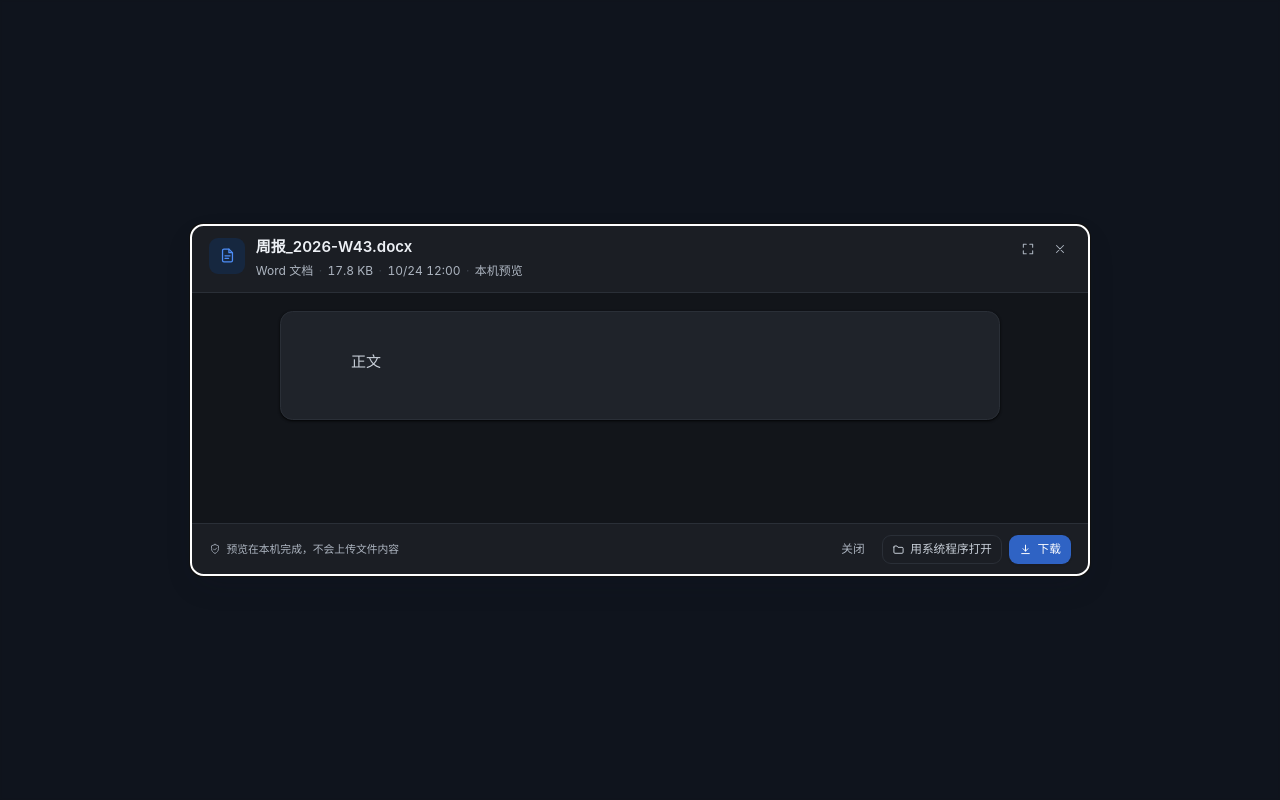
ArtifactPreviewModal 窗口尺寸 › 点展开切到全窗口，再点还原回半窗口
The image size is (1280, 800).
Expected: the text "正文" is shown, [351,352,381,371]
Step 1. Click the button named "全窗口查看" → (1028, 249), box [1013,234,1042,263]
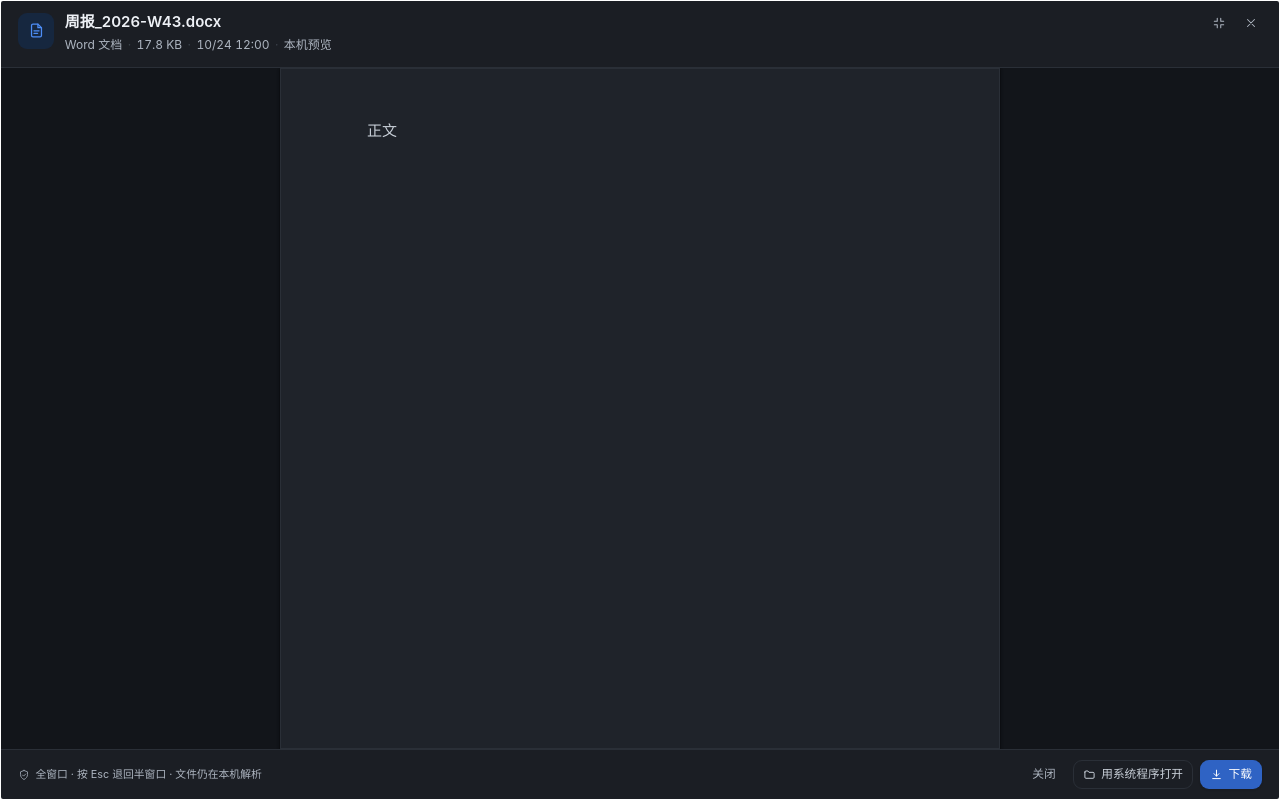
Now the dialog has attribute data-fullscreen="true"
Now the element with test id "preview-doc" has class "doc-paper--full", box [280,68,1000,749]
Step 2. Click the button named "还原半窗口" → (1219, 23), box [1204,9,1233,38]
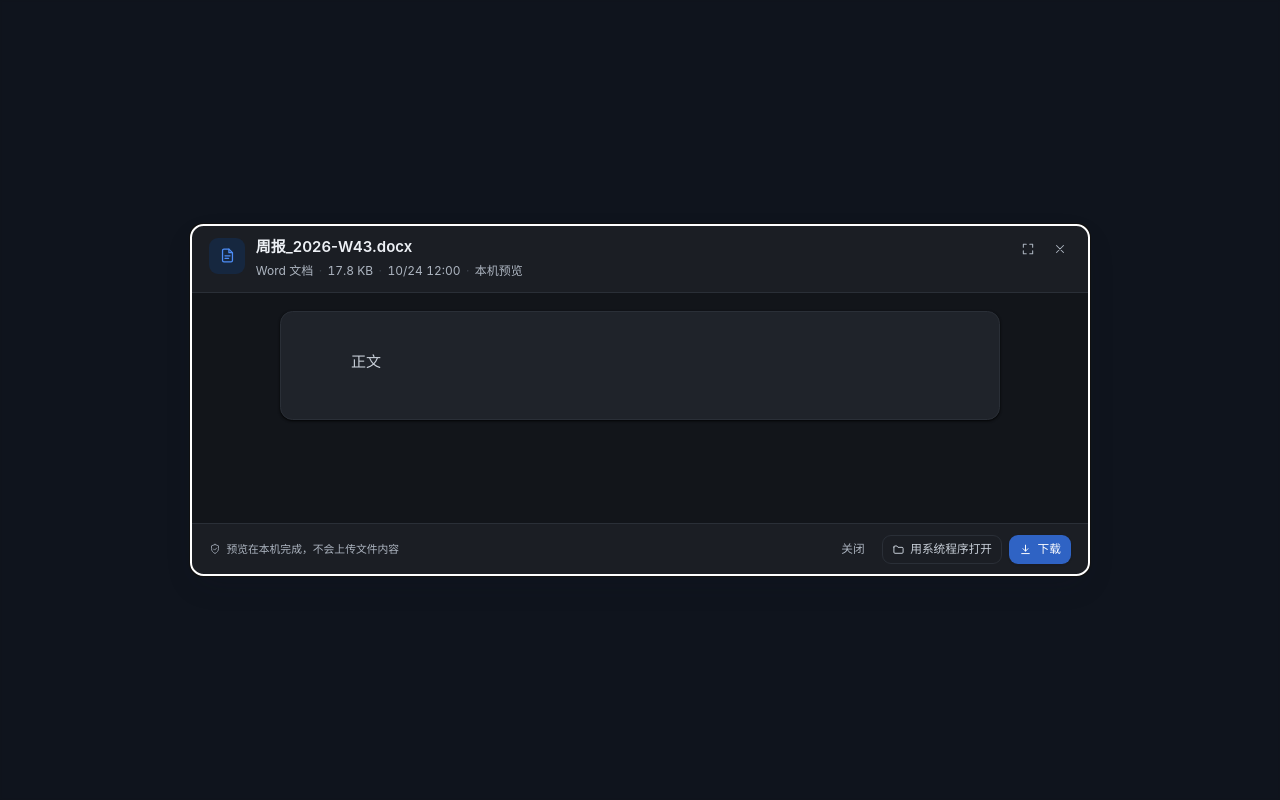
Now the dialog does not have attribute data-fullscreen, box [190,224,1090,576]
